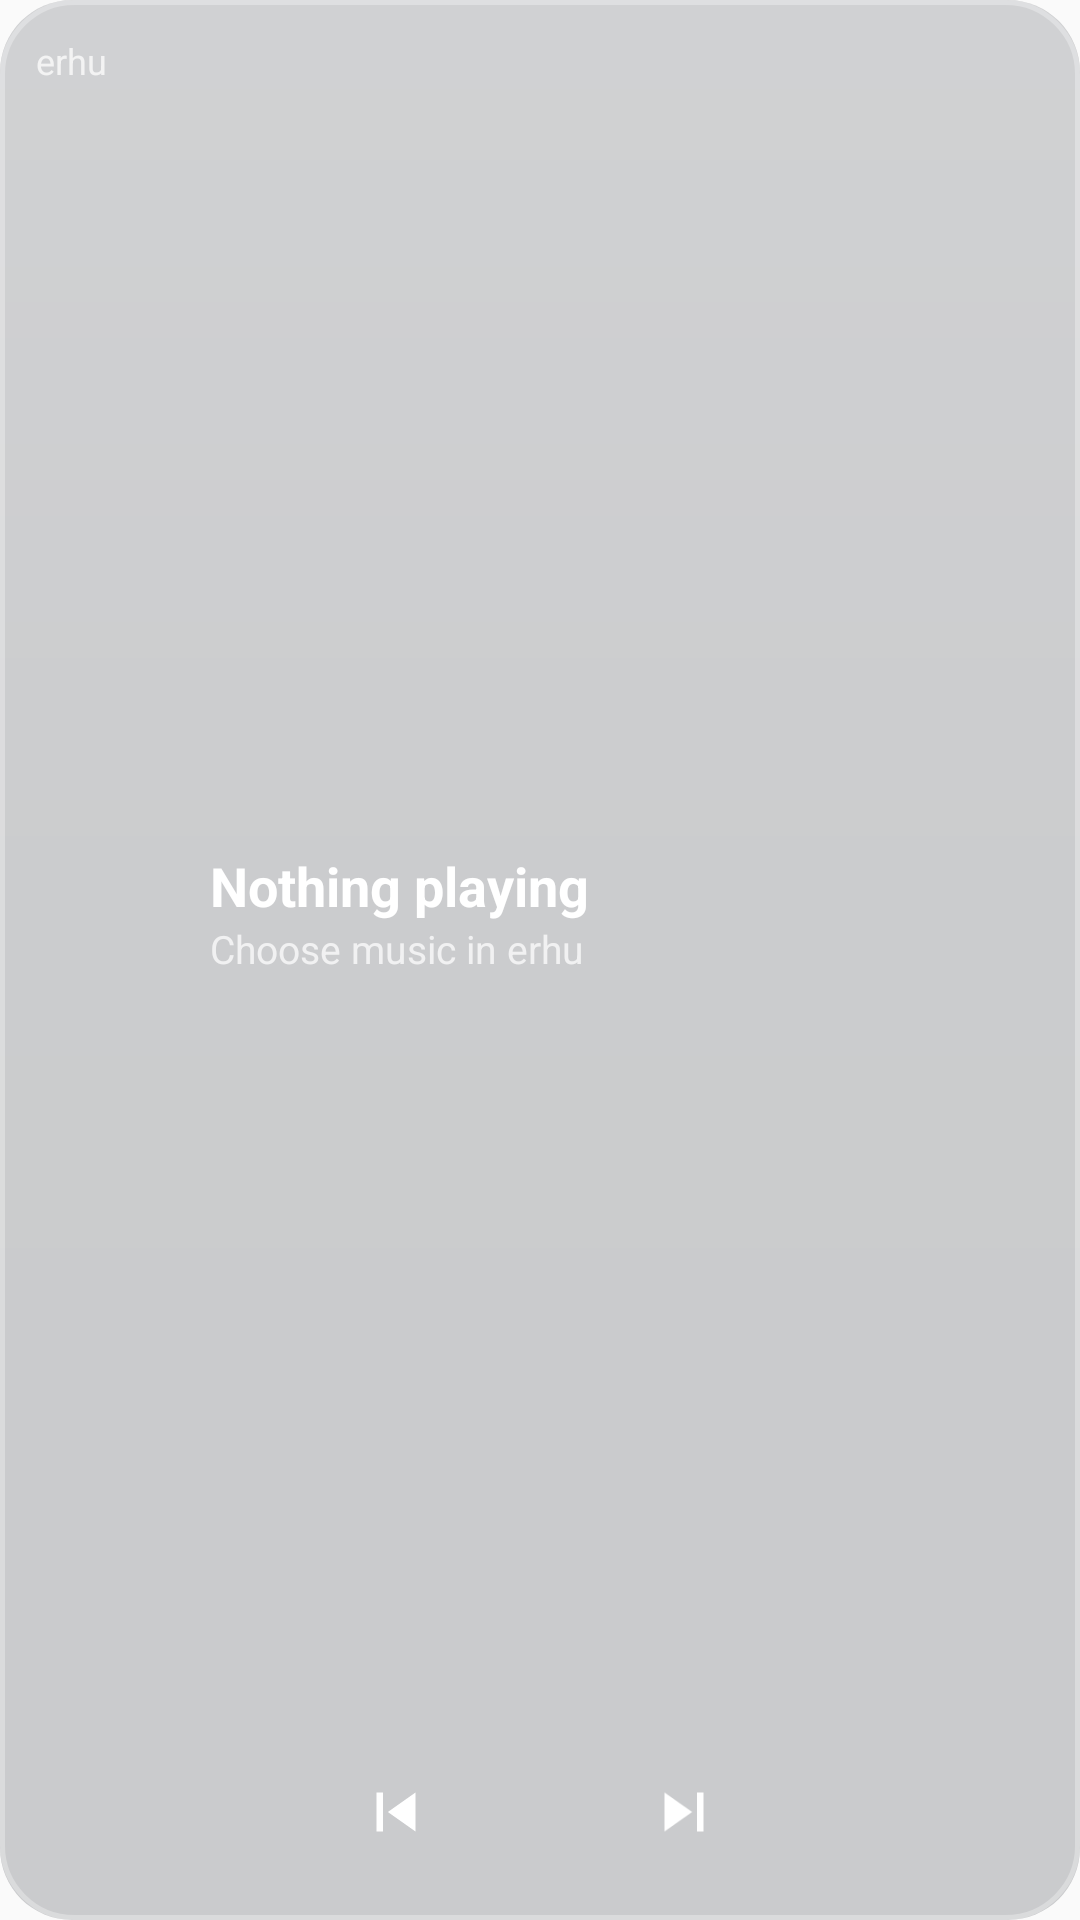

Screen size 1080 × 1920. Icon name, then its center in pixels as (x=x, y=y):
Next: (x=684, y=1812)
Previous: (x=396, y=1812)
